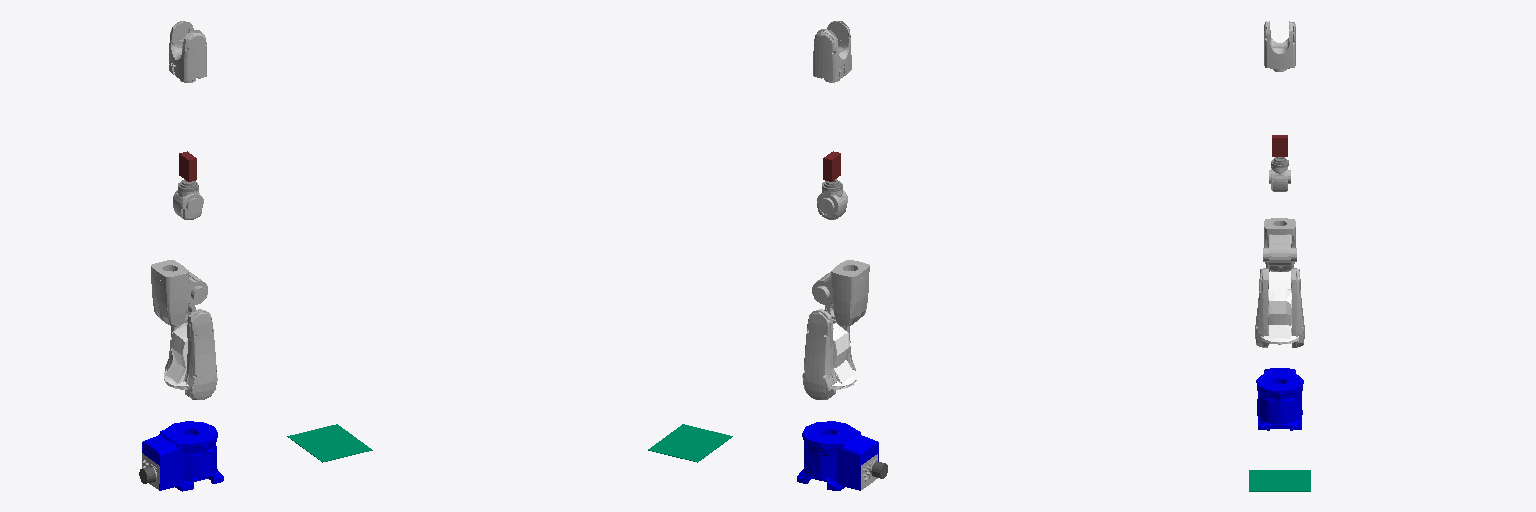
URDF robot description (vs060):
<robot name="vs060">
	<gazebo>
		<plugin filename="libgazebo_ros_control.so" name="gazebo_ros_control">
			<robotNamespace>/vs060</robotNamespace>
		</plugin>
	</gazebo>
	<link name="world" />
	<joint name="joint_w" type="fixed">
		<parent link="world" />
		<child link="base_link" />
	</joint>
	<link name="base_link">
		<visual>
			<origin rpy="0 0 0" xyz="0 0 0" />
			<geometry>
				<mesh filename="package://denso_robot_descriptions/vs060_description/base_link.dae" scale="1 1 1" />
			</geometry>
		</visual>
		<collision>
			<origin rpy="0 0 0" xyz="0 0 0" />
			<geometry>
				<mesh filename="package://denso_robot_descriptions/vs060_description/base_link.dae" scale="1 1 1" />
			</geometry>
		</collision>
		<inertial>
			<mass value="1" />
			<origin rpy="0.000000 0.000000 0.000000" xyz="0.000000 0.000000 0.000000" />
			<inertia ixx="1" ixy="0" ixz="0" iyy="1" iyz="0" izz="1" />
		</inertial>
	</link>
	<link name="J1">
		<visual>
			<origin rpy="0 0 0" xyz="0 0 0" />
			<geometry>
				<mesh filename="package://denso_robot_descriptions/vs060_description/J1.dae" scale="1 1 1" />
			</geometry>
		</visual>
		<collision>
			<origin rpy="0 0 0" xyz="0 0 0" />
			<geometry>
				<mesh filename="package://denso_robot_descriptions/vs060_description/J1.dae" scale="1 1 1" />
			</geometry>
		</collision>
		<inertial>
			<mass value="1" />
			<origin rpy="0.000000 0.000000 0.000000" xyz="0.000000 0.000000 0.000000" />
			<inertia ixx="1" ixy="0" ixz="0" iyy="1" iyz="0" izz="1" />
		</inertial>
	</link>
	<joint name="joint_1" type="revolute">
		<parent link="base_link" />
		<child link="J1" />
		<origin rpy="0.000000 0.000000 0.000000" xyz="0.000000 0.000000 0.181500" />
		<axis xyz="-0.000000 -0.000000 1.000000" />
		<limit effort="1" lower="-2.96706" upper="2.96706" velocity="3.92699081698724" />
		<dynamics damping="0" friction="0" />
	</joint>
	<transmission name="trans_1">
		<type>transmission_interface/SimpleTransmission</type>
		<joint name="joint_1">
			<hardwareInterface>PositionJointInterface</hardwareInterface>
		</joint>
		<actuator name="motor_1">
			<hardwareInterface>PositionJointInterface</hardwareInterface>
			<mechanicalReduction>1</mechanicalReduction>
		</actuator>
	</transmission>
	<link name="J2">
		<visual>
			<origin rpy="0 0 0" xyz="0 0 0" />
			<geometry>
				<mesh filename="package://denso_robot_descriptions/vs060_description/J2.dae" scale="1 1 1" />
			</geometry>
		</visual>
		<collision>
			<origin rpy="0 0 0" xyz="0 0 0" />
			<geometry>
				<mesh filename="package://denso_robot_descriptions/vs060_description/J2.dae" scale="1 1 1" />
			</geometry>
		</collision>
		<inertial>
			<mass value="1" />
			<origin rpy="0.000000 0.000000 0.000000" xyz="0.000000 0.000000 0.000000" />
			<inertia ixx="1" ixy="0" ixz="0" iyy="1" iyz="0" izz="1" />
		</inertial>
	</link>
	<joint name="joint_2" type="revolute">
		<parent link="J1" />
		<child link="J2" />
		<origin rpy="0.000000 0.000000 0.000000" xyz="0.000000 0.000000 0.163500" />
		<axis xyz="-0.000000 1.000000 -0.000000" />
		<limit effort="1" lower="-2.094395" upper="2.094395" velocity="2.61799387799149" />
		<dynamics damping="0" friction="0" />
	</joint>
	<transmission name="trans_2">
		<type>transmission_interface/SimpleTransmission</type>
		<joint name="joint_2">
			<hardwareInterface>PositionJointInterface</hardwareInterface>
		</joint>
		<actuator name="motor_2">
			<hardwareInterface>PositionJointInterface</hardwareInterface>
			<mechanicalReduction>1</mechanicalReduction>
		</actuator>
	</transmission>
	<link name="J3">
		<visual>
			<origin rpy="0 0 0" xyz="0 0 0" />
			<geometry>
				<mesh filename="package://denso_robot_descriptions/vs060_description/J3.dae" scale="1 1 1" />
			</geometry>
		</visual>
		<collision>
			<origin rpy="0 0 0" xyz="0 0 0" />
			<geometry>
				<mesh filename="package://denso_robot_descriptions/vs060_description/J3.dae" scale="1 1 1" />
			</geometry>
		</collision>
		<inertial>
			<mass value="1" />
			<origin rpy="0.000000 0.000000 0.000000" xyz="0.000000 0.000000 0.000000" />
			<inertia ixx="1" ixy="0" ixz="0" iyy="1" iyz="0" izz="1" />
		</inertial>
	</link>
	<joint name="joint_3" type="revolute">
		<parent link="J2" />
		<child link="J3" />
		<origin rpy="0.000000 0.000000 0.000000" xyz="0.000000 0.000000 0.305000" />
		<axis xyz="-0.000000 1.000000 -0.000000" />
		<limit effort="1" lower="-2.181662" upper="2.70526" velocity="2.85832571599111" />
		<dynamics damping="0" friction="0" />
	</joint>
	<transmission name="trans_3">
		<type>transmission_interface/SimpleTransmission</type>
		<joint name="joint_3">
			<hardwareInterface>PositionJointInterface</hardwareInterface>
		</joint>
		<actuator name="motor_3">
			<hardwareInterface>PositionJointInterface</hardwareInterface>
			<mechanicalReduction>1</mechanicalReduction>
		</actuator>
	</transmission>
	<link name="J4">
		<visual>
			<origin rpy="0 0 0" xyz="0 0 0" />
			<geometry>
				<mesh filename="package://denso_robot_descriptions/vs060_description/J4.dae" scale="1 1 1" />
			</geometry>
		</visual>
		<collision>
			<origin rpy="0 0 0" xyz="0 0 0" />
			<geometry>
				<mesh filename="package://denso_robot_descriptions/vs060_description/J4.dae" scale="1 1 1" />
			</geometry>
		</collision>
		<inertial>
			<mass value="1" />
			<origin rpy="0.000000 0.000000 0.000000" xyz="0.000000 0.000000 0.000000" />
			<inertia ixx="1" ixy="0" ixz="0" iyy="1" iyz="0" izz="1" />
		</inertial>
	</link>
	<joint name="joint_4" type="revolute">
		<parent link="J3" />
		<child link="J4" />
		<origin rpy="0.000000 0.000000 0.000000" xyz="-0.010000 0.000000 0.164500" />
		<axis xyz="-0.000000 -0.000000 1.000000" />
		<limit effort="1" lower="-4.712389" upper="4.712389" velocity="3.92699081698724" />
		<dynamics damping="0" friction="0" />
	</joint>
	<transmission name="trans_4">
		<type>transmission_interface/SimpleTransmission</type>
		<joint name="joint_4">
			<hardwareInterface>PositionJointInterface</hardwareInterface>
		</joint>
		<actuator name="motor_4">
			<hardwareInterface>PositionJointInterface</hardwareInterface>
			<mechanicalReduction>1</mechanicalReduction>
		</actuator>
	</transmission>
	<link name="J5">
		<visual>
			<origin rpy="0 0 0" xyz="0 0 0" />
			<geometry>
				<mesh filename="package://denso_robot_descriptions/vs060_description/J5.dae" scale="1 1 1" />
			</geometry>
		</visual>
		<collision>
			<origin rpy="0 0 0" xyz="0 0 0" />
			<geometry>
				<mesh filename="package://denso_robot_descriptions/vs060_description/J5.dae" scale="1 1 1" />
			</geometry>
		</collision>
		<inertial>
			<mass value="1" />
			<origin rpy="0.000000 0.000000 0.000000" xyz="0.000000 0.000000 0.000000" />
			<inertia ixx="1" ixy="0" ixz="0" iyy="1" iyz="0" izz="1" />
		</inertial>
	</link>
	<joint name="joint_5" type="revolute">
		<parent link="J4" />
		<child link="J5" />
		<origin rpy="0.000000 0.000000 0.000000" xyz="0.000000 0.000000 0.135500" />
		<axis xyz="-0.000000 1.000000 -0.000000" />
		<limit effort="1" lower="-2.094395" upper="2.094395" velocity="3.02168853397778" />
		<dynamics damping="0" friction="0" />
	</joint>
	<transmission name="trans_5">
		<type>transmission_interface/SimpleTransmission</type>
		<joint name="joint_5">
			<hardwareInterface>PositionJointInterface</hardwareInterface>
		</joint>
		<actuator name="motor_5">
			<hardwareInterface>PositionJointInterface</hardwareInterface>
			<mechanicalReduction>1</mechanicalReduction>
		</actuator>
	</transmission>
	<link name="J6">
		<visual>
			<origin rpy="0 0 0" xyz="0 0 0" />
			<geometry>
				<mesh filename="package://denso_robot_descriptions/vs060_description/J6.dae" scale="1 1 1" />
			</geometry>
		</visual>
		<collision>
			<origin rpy="0 0 0" xyz="0 0 0" />
			<geometry>
				<mesh filename="package://denso_robot_descriptions/vs060_description/J6.dae" scale="1 1 1" />
			</geometry>
		</collision>
		<inertial>
			<mass value="1" />
			<origin rpy="0.000000 0.000000 0.000000" xyz="0.000000 0.000000 0.000000" />
			<inertia ixx="1" ixy="0" ixz="0" iyy="1" iyz="0" izz="1" />
		</inertial>
	</link>
	<joint name="joint_6" type="revolute">
		<parent link="J5" />
		<child link="J6" />
		<origin rpy="0.000000 0.000000 0.000000" xyz="0.000000 0.000000 0.070000" />
		<axis xyz="-0.000000 -0.000000 1.000000" />
		<limit effort="1" lower="-6.283185" upper="6.283185" velocity="6.28318530717959" />
		<dynamics damping="0" friction="0" />
	</joint>
	<transmission name="trans_6">
		<type>transmission_interface/SimpleTransmission</type>
		<joint name="joint_6">
			<hardwareInterface>PositionJointInterface</hardwareInterface>
		</joint>
		<actuator name="motor_6">
			<hardwareInterface>PositionJointInterface</hardwareInterface>
			<mechanicalReduction>1</mechanicalReduction>
		</actuator>
	</transmission>
	
	<!-- camera_link -->
	<link name="camera_link">
		<visual>
			<origin xyz="0 0 0" rpy="0 0 0"/>
			<geometry>
				<box size="0.075 0.060 0.030"/>
			</geometry>
			<material name="gray">
            	<color rgba="0.5 0.2 0.2 1.0"/>
        	</material>
		</visual>

		<collision>
			<origin xyz="0 0 0" rpy="0 0 0"/>
			<geometry>
				<box size="0.075 0.060 0.030"/>
			</geometry>
		</collision>

		<inertial>
			<mass value="1e-5" />
			<origin xyz="0 0 0" rpy="0 0 0"/>
			<inertia ixx="1e-6" ixy="0" ixz="0" iyy="1e-6" iyz="0" izz="1e-6" />
		</inertial>
	</link>

	<joint name="camera_joint" type="fixed">
		<axis xyz="1 0 0" />
		<origin xyz="0 0 0.05" rpy="0 -1.5707963 0"/>
		<parent link="J6"/>
		<child link="camera_link"/>
	</joint>

	<!-- generate an optical frame http://www.ros.org/reps/rep-0103.html#suffix-frames
      so that ros and opencv can operate on the camera frame correctly -->
	<joint name="camera_optical_joint" type="fixed">
		<!-- these values have to be these values otherwise the gazebo camera image
			won't be aligned properly with the frame it is supposedly originating from -->
		<origin xyz="0 0 0" rpy="-1.5707963 0 -1.5707963"/>
		<parent link="camera_link"/>
		<child link="camera_link_optical"/>
	</joint>

	<link name="camera_link_optical">
	</link>

    <gazebo reference="camera_link">
      <sensor type="camera" name="basler">
		<always_on>1</always_on>
        <update_rate>30.0</update_rate>
		<visualize>true</visualize>
        <camera>
          	<horizontal_fov>0.70288959</horizontal_fov>
			<!-- <horizontal_fov>1.570796327</horizontal_fov> -->
			<image>
				<width>2592</width>
				<height>1944</height>
				<format>R8G8B8</format>
			</image>
			<save enabled="true">
				<path>/tmp/camera_save_tutorial</path>
			</save>
          	<clip>
				<near>0.001</near>
				<far>10</far>
          	</clip>
			<noise>
				<type>gaussian</type>
				<!-- Noise is sampled independently per pixel on each frame.
					That pixel's noise value is added to each of its color
					channels, which at that point lie in the range [0,1]. -->
				<mean>0.0</mean>
				<stddev>0.007</stddev>
        	</noise>
        </camera>

        <plugin name="camera_camera_controller" filename="libgazebo_ros_camera.so">
			<alwaysOn>true</alwaysOn>
			<updateRate>30.0</updateRate>
			<cameraName>arm_sensor/camera</cameraName>
			<imageTopicName>image_raw</imageTopicName>
			<cameraInfoTopicName>camera_info</cameraInfoTopicName>
			<frameName>camera_link</frameName>
			<hackBaseline>0.0</hackBaseline>
			<distortionK1>0.0</distortionK1>
			<distortionK2>0.0</distortionK2>
			<distortionK3>0.0</distortionK3>
			<distortionT1>0.0</distortionT1>
			<distortionT2>0.0</distortionT2>
			<CxPrime>1296</CxPrime>
			<Cx>1296</Cx>
			<Cy>972</Cy>
			<focalLength>0.3</focalLength>
        </plugin>
      </sensor>
    </gazebo>

	<link name="pattern">
		<visual>
			<origin rpy="0 0 0" xyz="0 0 0" />
			<geometry>
				<mesh filename="package://denso_robot_descriptions/vs060_description/pattern.dae" scale="1 1 1" />
			</geometry>
		</visual>
		<collision>
			<origin rpy="0 0 0" xyz="0 0 0" />
			<geometry>
				<box size="0.22 0.18 0.002"/> 
			</geometry>
		</collision>
		<inertial>
			<mass value="1" />
			<origin rpy="0.000000 0.000000 0.000000" xyz="0.000000 0.000000 0.000000" />
			<inertia ixx="1" ixy="0" ixz="0" iyy="1" iyz="0" izz="1" />
		</inertial>
	</link>

	<joint name="joint_pattern" type="fixed">
		<parent link="world" />
		<child link="pattern" />
		<origin rpy="0.000000 0.000000 1.5707963" xyz="0.500000 0.000000 0.001" />
	</joint>

	<!-- Add emissive light in pattern self -->
	<gazebo reference="pattern">
		<visual>
			<material>
				<emissive>0.5 0.5 0.5 0.5</emissive>
				<shader type='vertex'>
					<normal_map>__default__</normal_map>
				</shader>
			</material>
		</visual>
	</gazebo>
</robot>

--- Facts derived from the render (not from the file) ---
The picture shows the robot from 3 angles, left to right: view 1: azimuth 30°, elevation 25°; view 2: azimuth 150°, elevation 25°; view 3: azimuth 270°, elevation 25°; orthographic projection.
Robot: vs060 — 11 links, 10 joints (6 revolute, 4 fixed); root link world; default pose: every joint at zero.
Links seen in each view (by area): view 1: base_link, J2, J3, J4, pattern, J1, J5; view 2: base_link, J2, J3, J4, pattern, J1, J5; view 3: base_link, J3, J2, J1, pattern, J4, J5.
Boxes of the visible links, bbox=[...] form: base_link: bbox=[139, 421, 223, 491]; J2: bbox=[165, 304, 216, 399]; J3: bbox=[151, 260, 207, 326]; J4: bbox=[169, 21, 206, 82]; pattern: bbox=[287, 424, 372, 462]; J1: bbox=[164, 323, 217, 389]; J5: bbox=[173, 181, 203, 219]; base_link: bbox=[797, 421, 887, 490]; J2: bbox=[803, 304, 855, 399]; J3: bbox=[812, 260, 869, 326]; J4: bbox=[813, 21, 851, 82]; pattern: bbox=[648, 424, 732, 462]; J1: bbox=[802, 323, 856, 389]; J5: bbox=[817, 181, 847, 219]; base_link: bbox=[1256, 368, 1303, 430]; J3: bbox=[1263, 218, 1296, 271]; J2: bbox=[1255, 268, 1304, 347]; J1: bbox=[1261, 289, 1298, 344]; pattern: bbox=[1249, 470, 1310, 491]; J4: bbox=[1264, 21, 1295, 71]; J5: bbox=[1269, 159, 1290, 191].
Size in the robot's own frame: 0.7741 by 0.22 by 1.55 metres.
8 mesh visuals loaded from 8 distinct referenced files (8 Collada DAE).